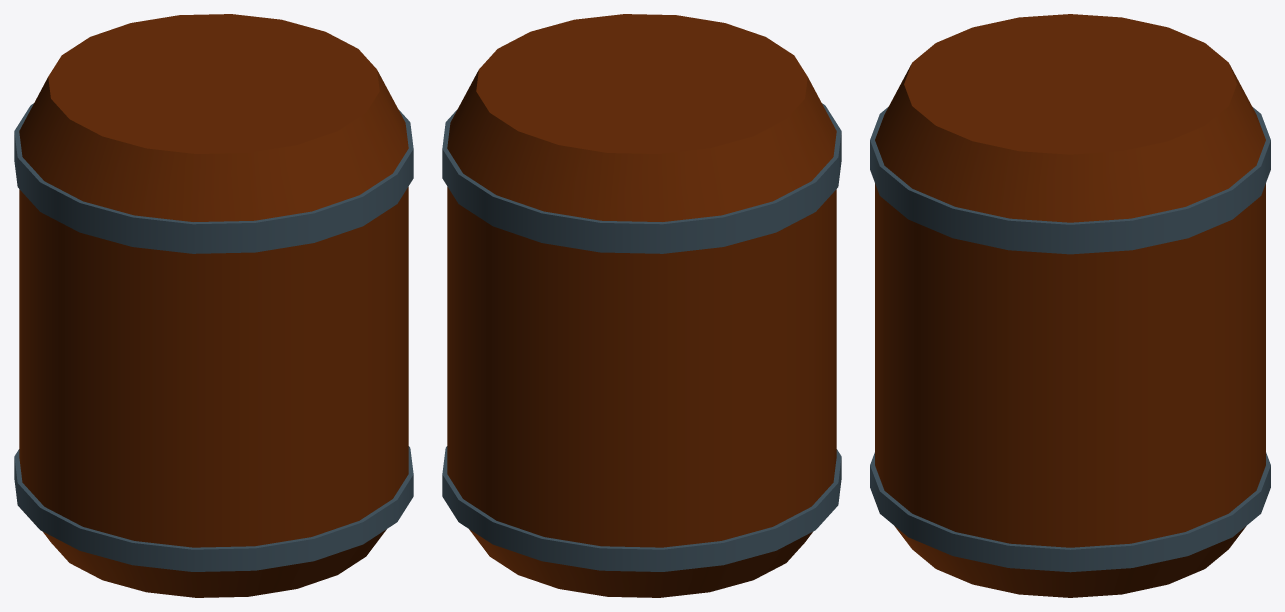
Rendered from Conjunto Pedra e Barril.fbx.
3 renders of one model, left to right at view 1: azimuth 30°, elevation 25°; view 2: azimuth 150°, elevation 25°; view 3: azimuth 270°, elevation 25°, orthographic.
Visible parts, largest first — view 1: pCylinder1, pCylinder2; view 2: pCylinder2, pCylinder1; view 3: pCylinder1, pCylinder2.
Boxes of the visible parts, box(x1,y1,x2,y2) form: pCylinder1: box(14, 14, 413, 596); pCylinder2: box(14, 14, 413, 597); pCylinder2: box(442, 14, 841, 597); pCylinder1: box(442, 14, 840, 567); pCylinder1: box(870, 14, 1270, 597); pCylinder2: box(871, 14, 1270, 556).
Bounding box in the file's own units: 4.15 × 5.07 × 4.15.
